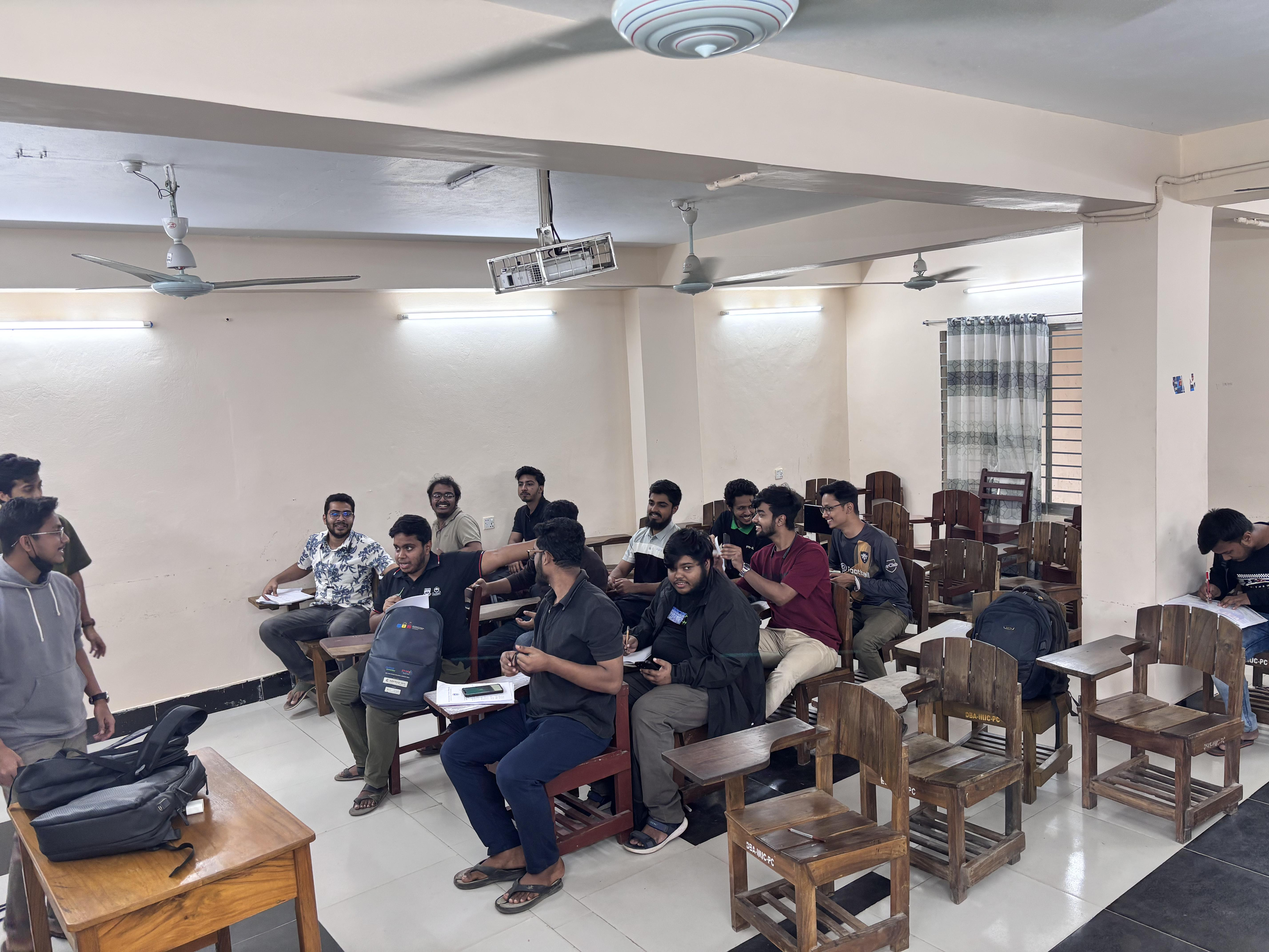invigilator: (0, 494, 107, 732)
no_cheating: (1157, 492, 1269, 693), (260, 490, 383, 621), (611, 476, 688, 600), (372, 510, 457, 612), (410, 473, 489, 564), (500, 458, 554, 560)
side_talking: (715, 472, 810, 579), (812, 477, 893, 598)
using_phone: (462, 516, 590, 713), (620, 526, 729, 706)
